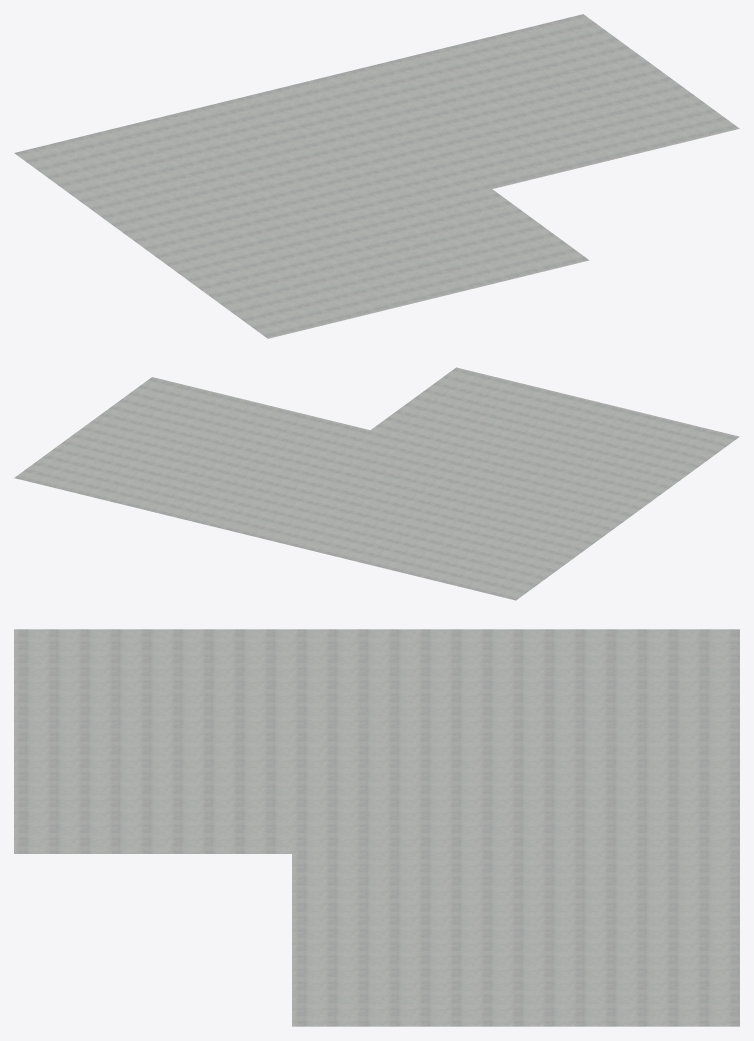
File: b1f地板_02.glb
The picture shows the model from 3 angles, top to bottom: view 1: azimuth 30°, elevation 25°; view 2: azimuth 150°, elevation 25°; view 3: azimuth 270°, elevation 25°; orthographic projection. The views are drawn at different scales.
Parts seen in each view (by area): view 1: b1f地板_02; view 2: b1f地板_02; view 3: b1f地板_02.
Part boxes in pixels (left/top/right/bottom): b1f地板_02: left=14, top=14, right=739, bottom=338; b1f地板_02: left=14, top=367, right=739, bottom=600; b1f地板_02: left=14, top=629, right=739, bottom=1026.
Size of the model in its own units: 6072 by 0.00158 by 4690.
1 material, 1 textured.
